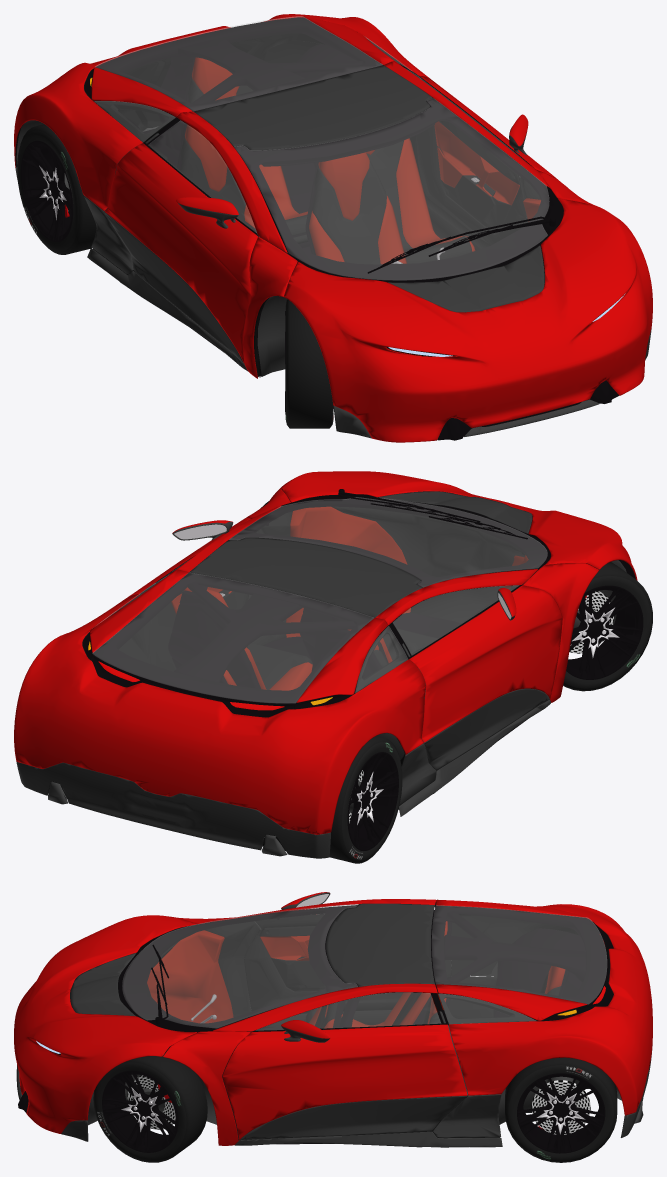
File: car.glb
3 renders of one model, top to bottom at view 1: azimuth 30°, elevation 25°; view 2: azimuth 150°, elevation 25°; view 3: azimuth 270°, elevation 25°, orthographic. The views are drawn at different scales.
Parts seen in each view (by area): view 1: BodyHood, BodyWindshield, BodyRearwindow, BodyDoorRColor1, BodyRearPanelsColor1, BodyRoofPanel, BodyWindshieldGasket, InteriorSeatsColor1, InteriorSeatsColor2, BodyPillars, InteriorPillar, InteriorRearHatch (+19 smaller); view 2: BodyRearPanelsColor1, BodyRearwindow, BodyWindshield, BodyPanelsColor2, BodyDoorRColor1, BodyRoofPanel, InteriorDashMid, BodyHood, InteriorRearHatch, BodyPillars, InteriorPillar, BodyWindshieldGasket (+19 smaller); view 3: BodyRearPanelsColor1, BodyWindshield, BodyDoorLColor1, BodyHood, BodyRearwindow, BodyRoofPanel, BodyPillars, BodyWindshieldGasket, BodyDoorLColor2, BodyPanelsColor2, InteriorDashSides, WheelFrontL (+22 smaller).
Part boxes in pixels (left/top/right/bottom): BodyHood: left=283, top=198, right=652, bottom=442; BodyWindshield: left=234, top=98, right=549, bottom=280; BodyRearwindow: left=95, top=16, right=382, bottom=110; BodyDoorRColor1: left=104, top=143, right=257, bottom=363; BodyRearPanelsColor1: left=14, top=14, right=428, bottom=210; BodyRoofPanel: left=193, top=65, right=432, bottom=150; BodyWindshieldGasket: left=234, top=99, right=563, bottom=282; InteriorSeatsColor1: left=185, top=57, right=475, bottom=264; InteriorSeatsColor2: left=180, top=78, right=472, bottom=264; BodyPillars: left=176, top=61, right=598, bottom=378; InteriorPillar: left=158, top=37, right=434, bottom=168; InteriorRearHatch: left=93, top=17, right=383, bottom=118; BodyRearPanelsColor1: left=14, top=569, right=425, bottom=834; BodyRearwindow: left=92, top=573, right=373, bottom=703; BodyWindshield: left=229, top=497, right=547, bottom=587; BodyPanelsColor2: left=16, top=700, right=550, bottom=858; BodyDoorRColor1: left=409, top=585, right=562, bottom=742; BodyRoofPanel: left=189, top=537, right=422, bottom=617; InteriorDashMid: left=331, top=503, right=528, bottom=623; BodyHood: left=279, top=471, right=637, bottom=580; InteriorRearHatch: left=93, top=573, right=386, bottom=707; BodyPillars: left=175, top=489, right=599, bottom=702; InteriorPillar: left=174, top=574, right=417, bottom=682; BodyWindshieldGasket: left=230, top=497, right=550, bottom=587; BodyRearPanelsColor1: left=436, top=899, right=652, bottom=1115; BodyWindshield: left=122, top=904, right=357, bottom=1028; BodyDoorLColor1: left=222, top=1024, right=467, bottom=1140; BodyHood: left=14, top=915, right=196, bottom=1133; BodyRearwindow: left=432, top=905, right=606, bottom=1003; BodyRoofPanel: left=326, top=903, right=434, bottom=986; BodyPillars: left=163, top=899, right=437, bottom=1145; BodyWindshieldGasket: left=118, top=905, right=357, bottom=1032; BodyDoorLColor2: left=240, top=1096, right=467, bottom=1140; BodyPanelsColor2: left=16, top=1045, right=652, bottom=1147; InteriorDashSides: left=147, top=930, right=233, bottom=1023; WheelFrontL: left=93, top=1054, right=207, bottom=1162.
Bounding box in the file's own units: 2.54 × 1.15 × 4.36.
Materials: 20 (4 with a texture image).
